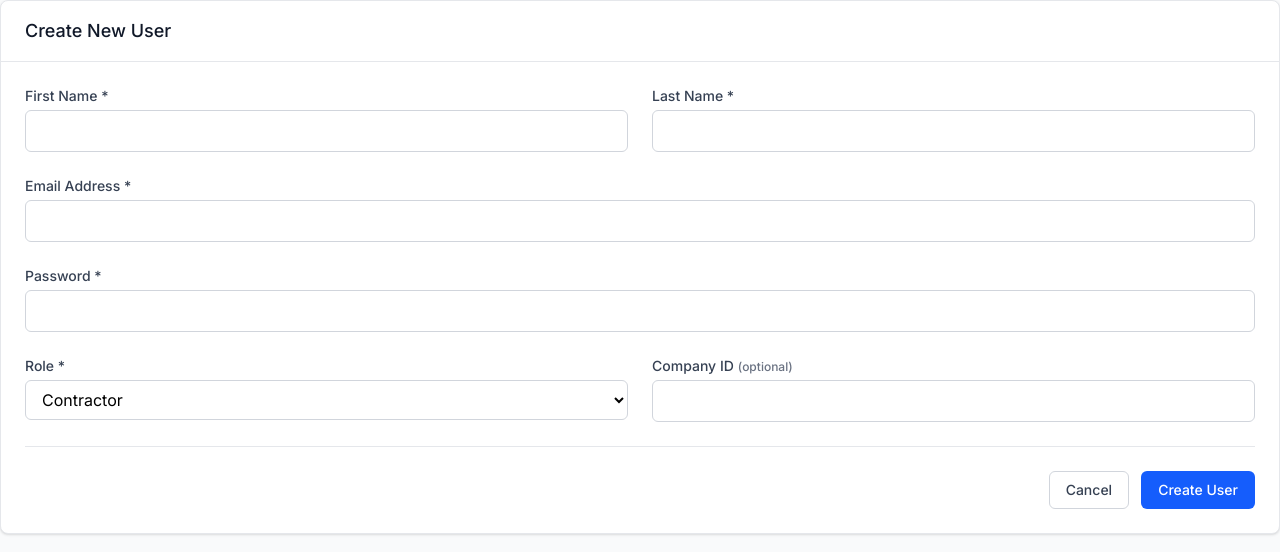
Test case: UserForm › Form Actions › shows loading state during form submission
// Fill required fields
Type "Test" into the field labelled "First Name *".
click(326, 131); type("Test")  # box [25,110,628,152]
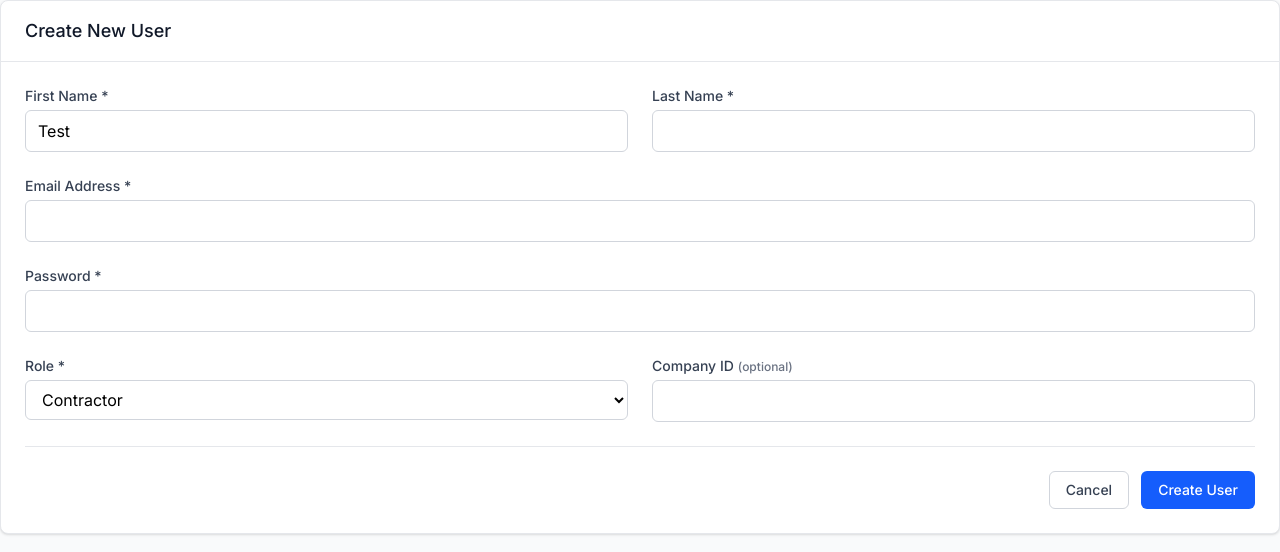
Type "User" into the field labelled "Last Name *".
click(954, 131); type("User")  # box [652,110,1255,152]
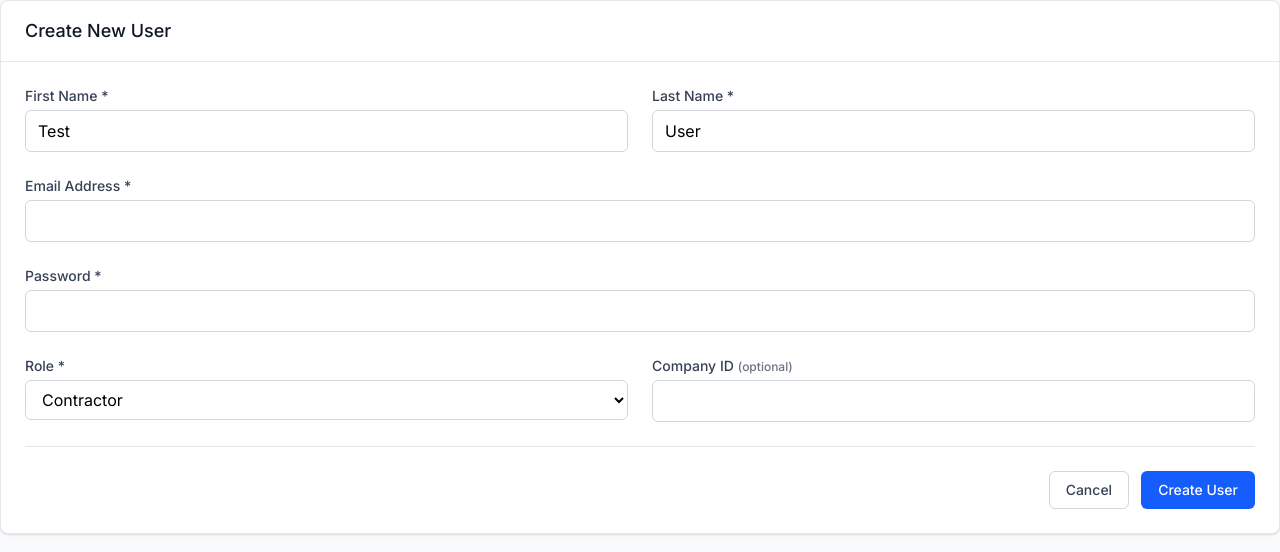
Type "test@example.com" into the field labelled "Email Address *".
click(640, 221); type("test@example.com")  # box [25,200,1255,242]
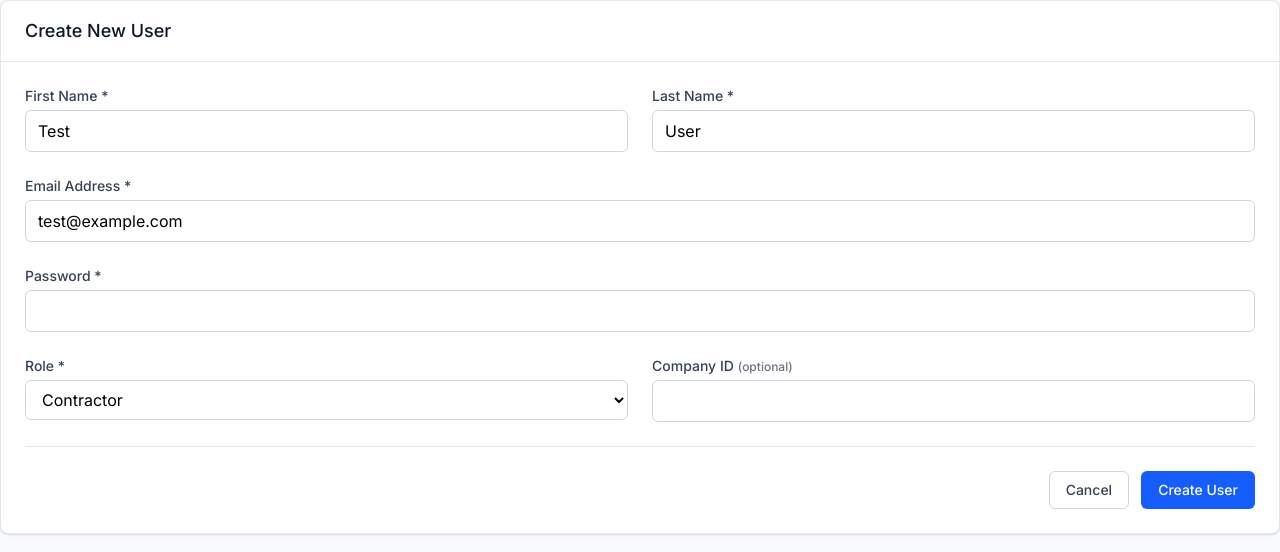
Type "password123" into the password field labelled "Password *".
click(640, 311); type("password123")  # box [25,290,1255,332]
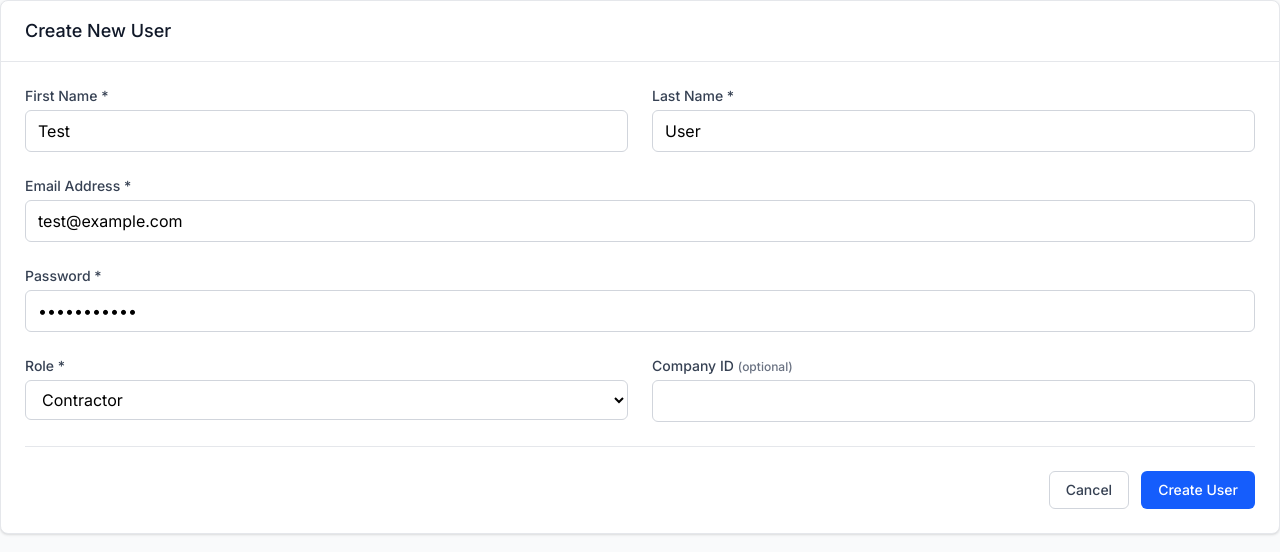
Click the button "Create User".
click(1198, 490)  # box [1141,471,1255,509]
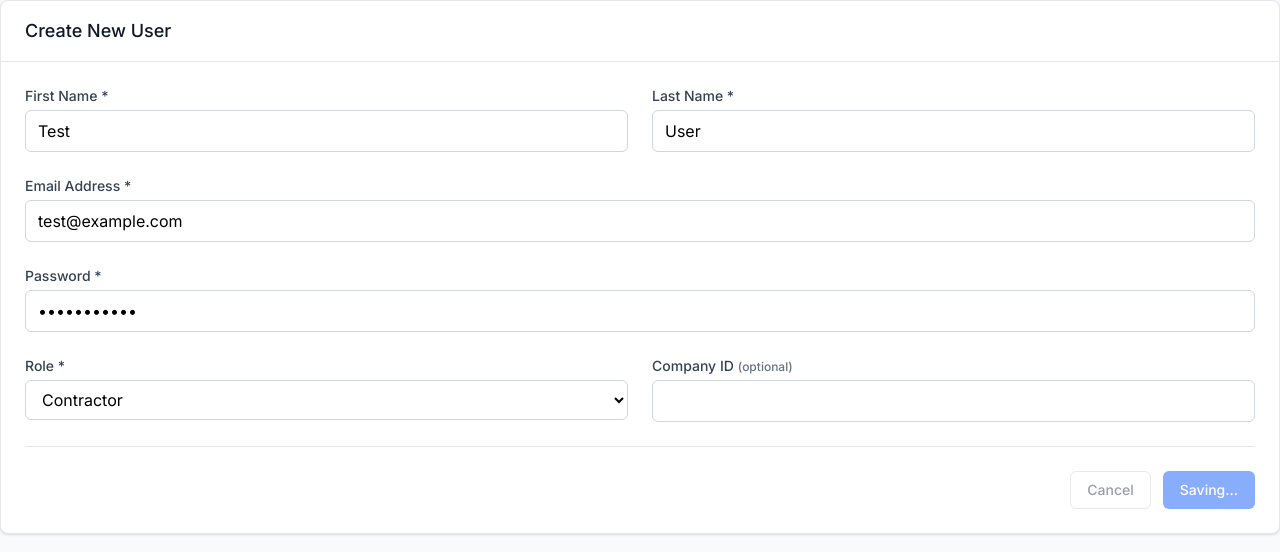
Check: the button "Saving..." is disabled, box [1163,471,1255,509]
